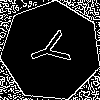Y: (26, 26, 80, 73)
